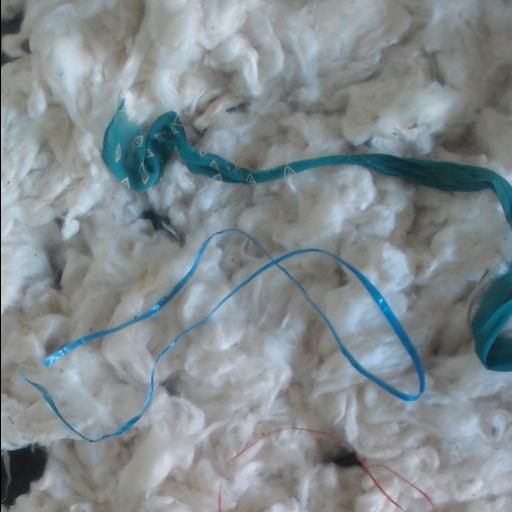cloth: (105, 104, 512, 232), (470, 260, 512, 371)
conveyor belt: (1, 445, 47, 507), (326, 447, 366, 470)
cotton: (1, 0, 512, 511)
thread: (22, 228, 425, 442), (344, 442, 405, 511), (228, 425, 332, 460), (370, 464, 437, 511), (216, 482, 222, 511)
